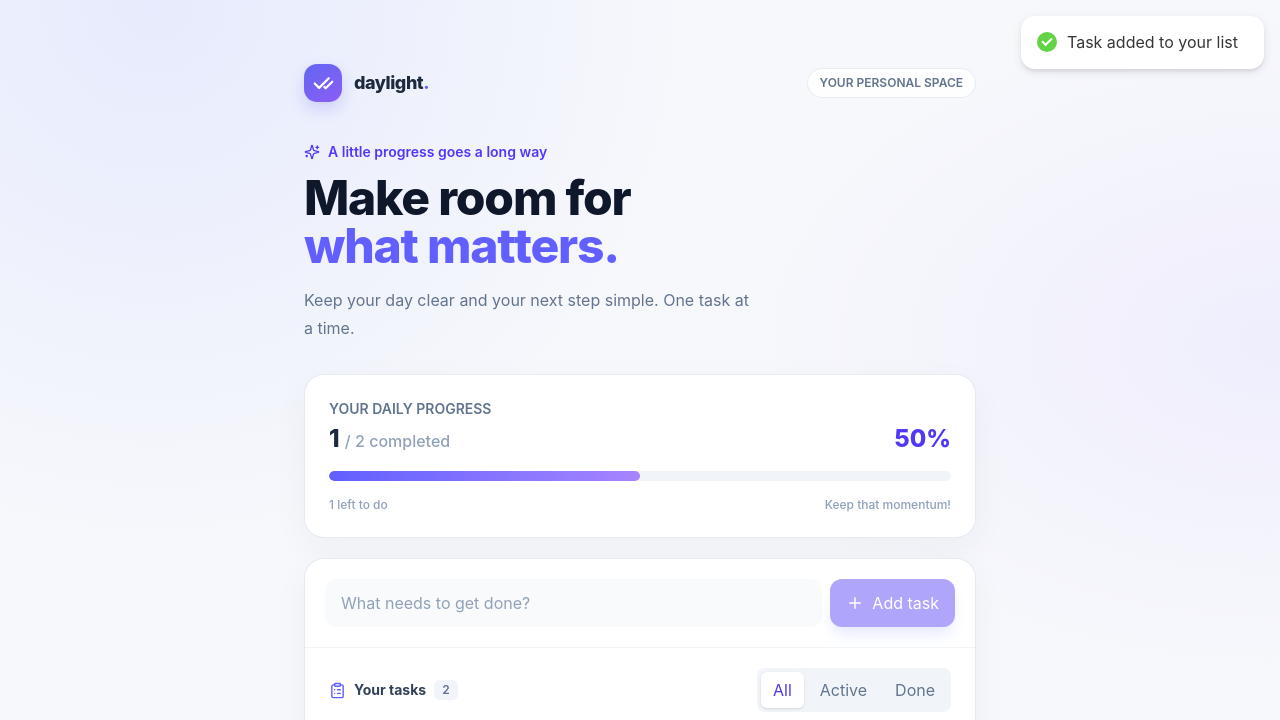
Test: Daylight Todo UI › filters active and completed tasks
Click the button "Active". click: (843, 690)
box: 808,672 -> 879,708
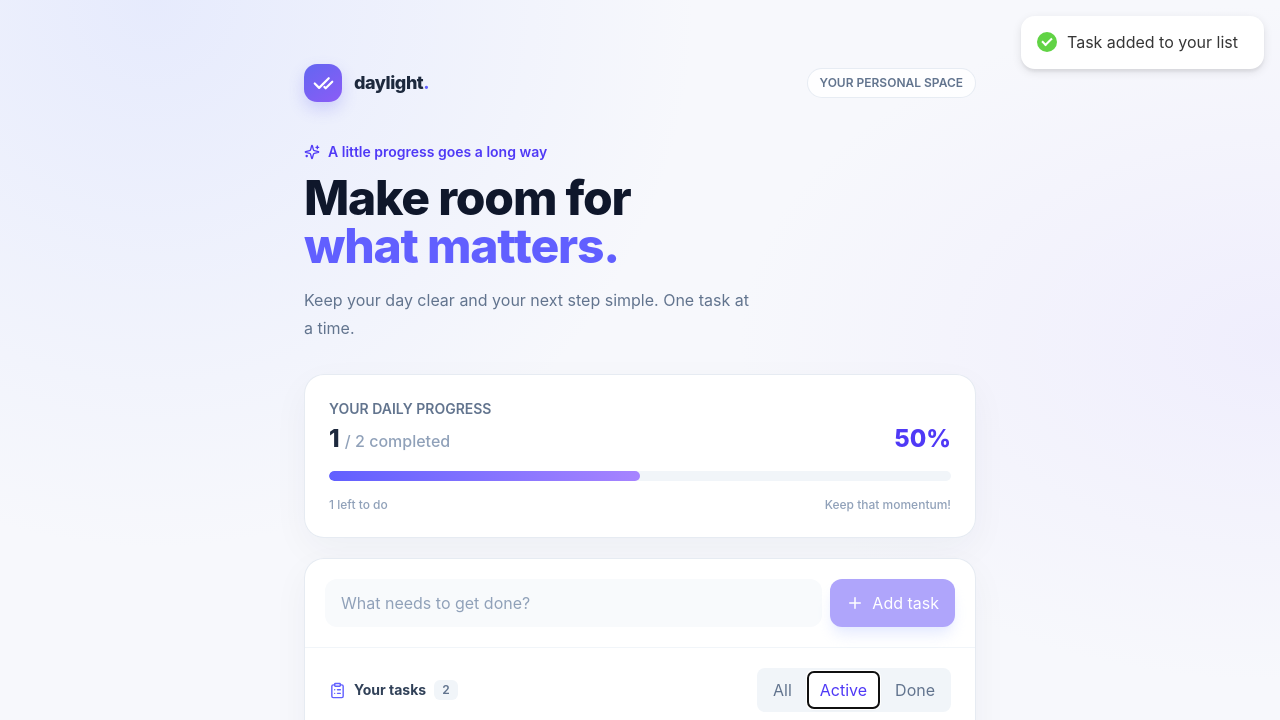
Click the button "Done". click: (915, 690)
box: 883,672 -> 947,708
(page scrolled)
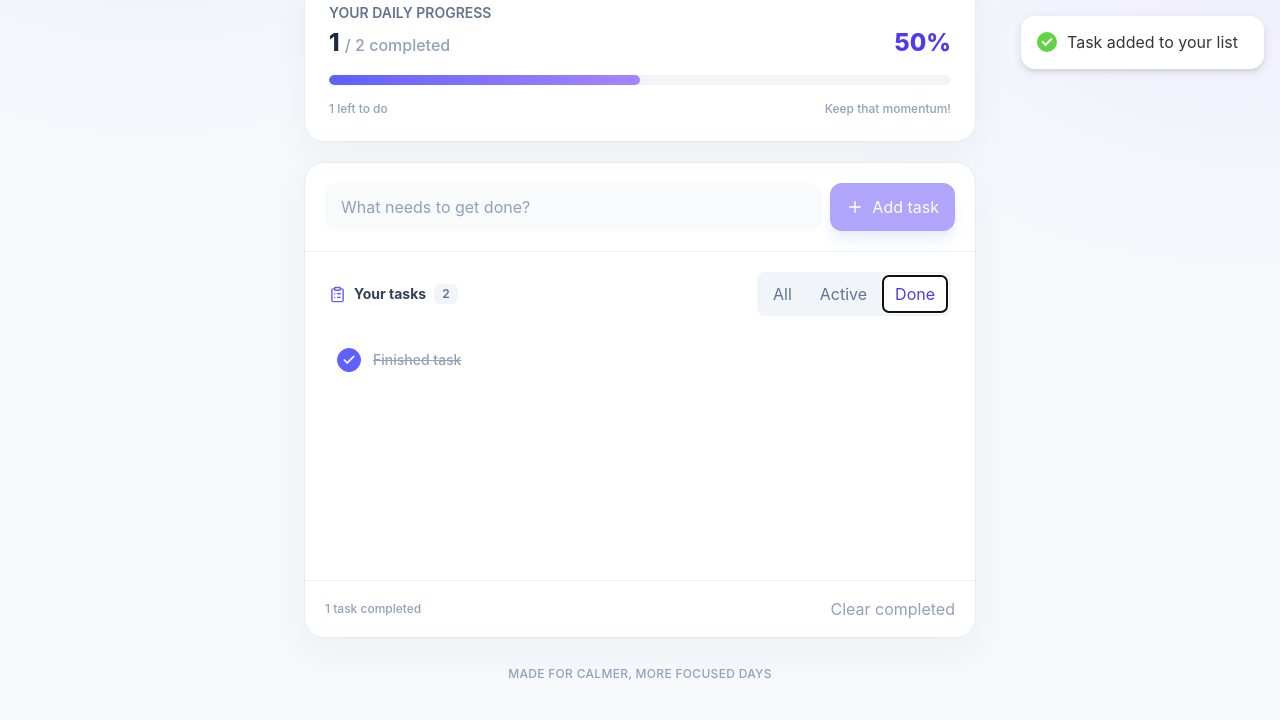
Expected: the text "Finished task" is shown, 373,351 -> 462,368
